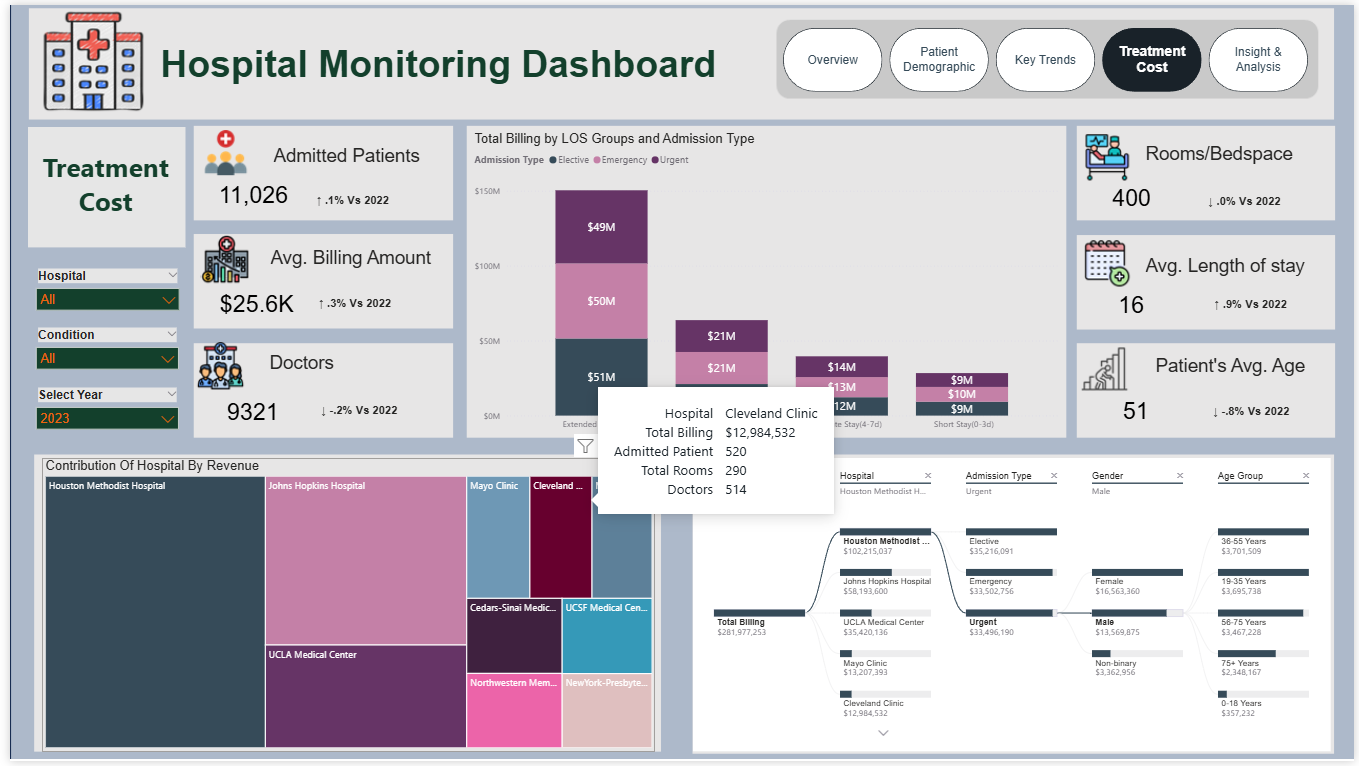

The page's visual inventory and layout, read from the dashboard file:
{"tool":"powerbi","page":{"name":"Treatment  Cost","canvas":[1920,1080],"ordinal":3},"visuals":[{"type":"card","fields":{"Values":["_DAXMeasure.Admitted Patient"]},"box":[290,242.1,115.7,58.5],"z":0},{"type":"textbox","box":[371.1,195.5,232.8,46.6],"z":1000},{"type":"textbox","box":[210.1,47.9,827.3,77.1],"z":2000},{"type":"card","fields":{"Values":["_DAXMeasure.Admission YoY"]},"box":[405.7,262,167.6,38.6],"z":3000},{"type":"treemap","title":"Contribution Of Hospital By Revenue","fields":{"Group":["HealthstatData.Hospital"],"Values":["_DAXMeasure.Total Billing"]},"box":[45.2,647.7,876.5,419],"z":4000},{"type":"textbox","box":[367.1,341.8,255.4,49.2],"z":5000},{"type":"textbox","box":[365.8,490.8,220.8,49.2],"z":6000},{"type":"textbox","box":[1617.3,192.9,252.7,50.5],"z":7000},{"type":"textbox","box":[1617.3,347.1,239.4,63.8],"z":8000},{"type":"textbox","box":[1632,496.1,224.8,62.5],"z":9000},{"type":"card","fields":{"Values":["_DAXMeasure.Avg Billimg Amount"]},"box":[290,395,125,61.2],"z":10000},{"type":"card","fields":{"Values":["_DAXMeasure.Bill YoY"]},"box":[421.6,411,142.3,31.9],"z":11000},{"type":"card","fields":{"Values":["_DAXMeasure.Doctors"]},"box":[300.6,558.6,94.4,42.6],"z":12000},{"type":"card","fields":{"Values":["_DAXMeasure.Doctors YoY"]},"box":[424.3,563.9,149,30.6],"z":13000},{"type":"card","fields":{"Values":["_DAXMeasure.Total Rooms"]},"box":[1546.8,244.7,110.4,59.9],"z":14000},{"type":"card","fields":{"Values":["_DAXMeasure.Rooms YoY"]},"box":[1691.8,267.3,143.6,29.3],"z":15000},{"type":"card","fields":{"Values":["_DAXMeasure.Average LOS"]},"box":[1556.2,387,91.8,81.1],"z":16000},{"type":"card","fields":{"Values":["_DAXMeasure.Avg. Los YoY"]},"box":[1703.8,411,135.7,34.6],"z":17000},{"type":"card","fields":{"Values":["_DAXMeasure.Avg Age"]},"box":[1560.1,540,97.1,77.1],"z":18000},{"type":"card","fields":{"Values":["_DAXMeasure.Average Age YoY"]},"box":[1707.8,566.6,131.7,25.3],"z":19000},{"type":"slicer","fields":{"Values":["Dim_Date.Year"]},"box":[27.2,541.2,223.7,77.1],"z":20000},{"type":"columnChart","fields":{"Category":["HealthstatData.LOS Groups Modified"],"Y":["_DAXMeasure.Total Billing"],"Series":["HealthstatData.Admission Type"]},"box":[659.1,179.9,846.6,436.9],"z":21000},{"type":"decompositionTreeVisual","fields":{"Analyze":["_DAXMeasure.Total Billing"],"ExplainBy":["HealthstatData.Hospital","HealthstatData.Admission Type","HealthstatData.Gender","HealthstatData.Age Group"]},"box":[976.3,647.7,911.1,419],"z":22000},{"type":"pageNavigator","box":[1103.9,33.3,752.8,91.8],"z":23000},{"type":"slicer","fields":{"Values":["HealthstatData.Hospital"]},"box":[27.2,371.9,225.3,77.1],"z":24000},{"type":"slicer","fields":{"Values":["Dim_Condition.Medical Condition"]},"box":[27.2,455.1,223.7,86.2],"z":25000},{"type":"shape","box":[25.7,173.9,225.3,172.3],"z":26000},{"type":"textbox","box":[25.7,199.6,222.2,117.9],"z":27000}]}

Visuals, with their boxes in screenshot pixels (x1, y1, x2, y2), scaled from the page's 1920x1080 canvas onto the 1359x766 screenshot:
card - _DAXMeasure.Admitted Patient: 205,172,287,213
textbox: 263,139,427,172
textbox: 149,34,734,89
card - _DAXMeasure.Admission YoY: 287,186,406,213
"Contribution Of Hospital By Revenue" treemap: 32,459,652,757
textbox: 260,242,441,277
textbox: 259,348,415,383
textbox: 1145,137,1324,173
textbox: 1145,246,1314,291
textbox: 1155,352,1314,396
card - _DAXMeasure.Avg Billimg Amount: 205,280,294,324
card - _DAXMeasure.Bill YoY: 298,292,399,314
card - _DAXMeasure.Doctors: 213,396,280,426
card - _DAXMeasure.Doctors YoY: 300,400,406,422
card - _DAXMeasure.Total Rooms: 1095,174,1173,216
card - _DAXMeasure.Rooms YoY: 1197,190,1299,210
card - _DAXMeasure.Average LOS: 1101,274,1166,332
card - _DAXMeasure.Avg. Los YoY: 1206,292,1302,316
card - _DAXMeasure.Avg Age: 1104,383,1173,438
card - _DAXMeasure.Average Age YoY: 1209,402,1302,420
slicer - Dim_Date.Year: 19,384,178,439
columnChart - HealthstatData.LOS Groups Modified x _DAXMeasure.Total Billing: 467,128,1066,437
decompositionTreeVisual - _DAXMeasure.Total Billing x HealthstatData.Hospital: 691,459,1336,757
pageNavigator: 781,24,1314,89
slicer - HealthstatData.Hospital: 19,264,179,318
slicer - Dim_Condition.Medical Condition: 19,323,178,384
shape: 18,123,178,246
textbox: 18,142,175,225
